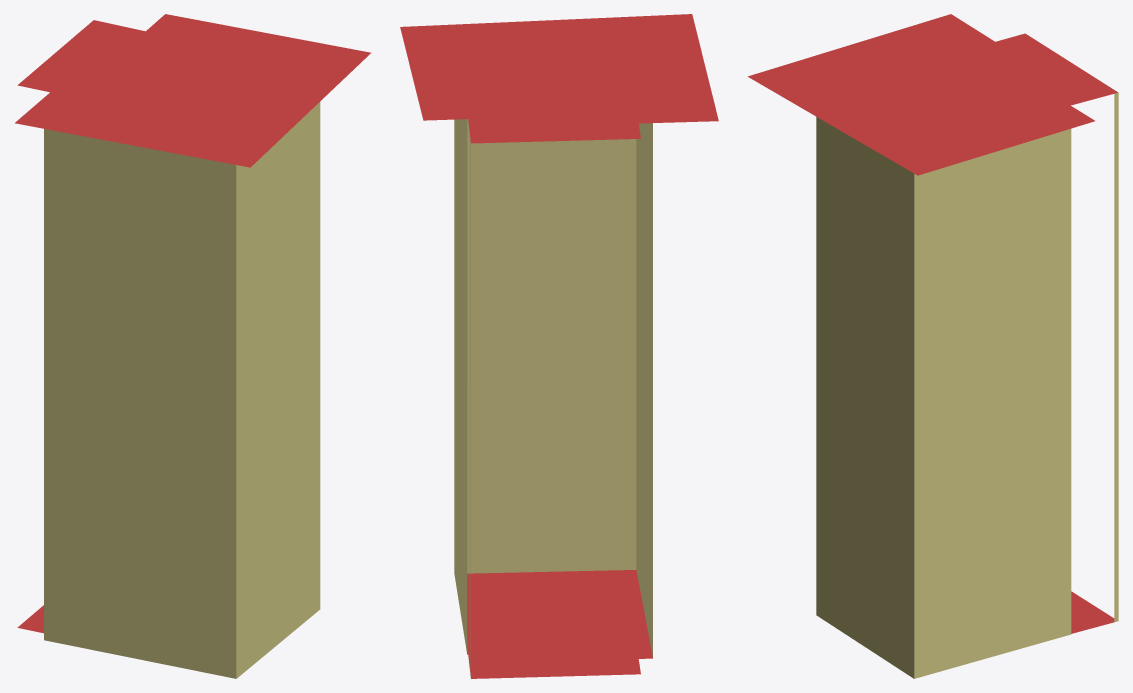
3 views of the same model, side by side, from view 1: azimuth 30°, elevation 25°; view 2: azimuth 150°, elevation 25°; view 3: azimuth 270°, elevation 25° (orthographic). The views are drawn at different scales.
Size of the model in its own units: 7.05 by 6.84 by 10.74.
